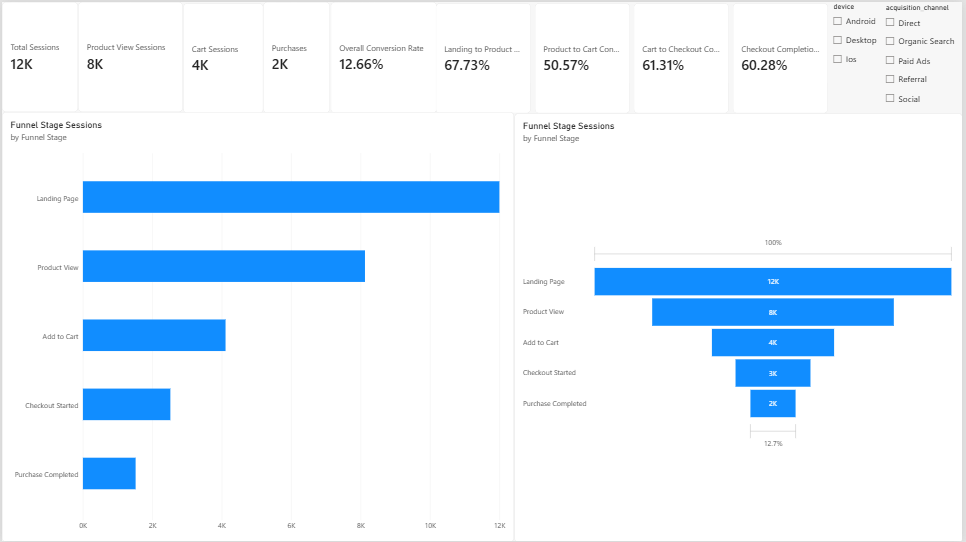

The page's visual inventory and layout, read from the dashboard file:
{"tool":"powerbi","page":{"name":"Funnel Overview","canvas":[1920,1080],"ordinal":0},"visuals":[{"type":"cardVisual","fields":{"Data":["SessionFunnel.Total Sessions"]},"box":[0,0,152.3,220.2],"z":0},{"type":"cardVisual","fields":{"Data":["SessionFunnel.Product View Sessions"]},"box":[152.3,0,209.9,220.2],"z":1000},{"type":"cardVisual","fields":{"Data":["SessionFunnel.Cart Sessions"]},"box":[362.3,2.1,160.5,220.2],"z":2000},{"type":"cardVisual","fields":{"Data":["SessionFunnel.Purchases"]},"box":[522.8,0,133.8,222.3],"z":3000},{"type":"cardVisual","fields":{"Data":["SessionFunnel.Overall Conversion Rate"]},"box":[656.6,0,212,222.3],"z":4000},{"type":"funnel","fields":{"Category":["Funnel Stage.Funnel Stage"],"Y":["Funnel Stage.Funnel Stage Sessions"]},"box":[1024,222,896,858],"z":5000},{"type":"cardVisual","fields":{"Data":["SessionFunnel.Landing to Product Conversion","SessionFunnel.Product to Cart Conversion","SessionFunnel.Cart to Checkout Conversion","SessionFunnel.Checkout Completion Rate"]},"box":[868.6,2.1,786.3,220.2],"z":6000},{"type":"barChart","fields":{"Category":["Funnel Stage.Funnel Stage"],"Y":["Funnel Stage.Funnel Stage Sessions"]},"box":[0,220,1024,860],"z":7000},{"type":"slicer","fields":{"Values":["funnel_events_clean.device"]},"box":[1654.9,0,160.5,162.6],"z":9000},{"type":"slicer","fields":{"Values":["funnel_events_clean.acquisition_channel"]},"box":[1759.9,2.1,160.5,234.6],"z":10000}]}

Visuals, with their boxes in screenshot pixels (x1, y1, x2, y2), scaled from the page's 1920x1080 canvas onto the 966x542 screenshot:
cardVisual - SessionFunnel.Total Sessions: rect(0, 0, 77, 111)
cardVisual - SessionFunnel.Product View Sessions: rect(77, 0, 182, 111)
cardVisual - SessionFunnel.Cart Sessions: rect(182, 1, 263, 112)
cardVisual - SessionFunnel.Purchases: rect(263, 0, 330, 112)
cardVisual - SessionFunnel.Overall Conversion Rate: rect(330, 0, 437, 112)
funnel - Funnel Stage.Funnel Stage x Funnel Stage.Funnel Stage Sessions: rect(515, 111, 965, 541)
cardVisual - SessionFunnel.Landing to Product Conversion x SessionFunnel.Product to Cart Conversion: rect(437, 1, 833, 112)
barChart - Funnel Stage.Funnel Stage x Funnel Stage.Funnel Stage Sessions: rect(0, 110, 515, 541)
slicer - funnel_events_clean.device: rect(833, 0, 913, 82)
slicer - funnel_events_clean.acquisition_channel: rect(885, 1, 965, 119)
